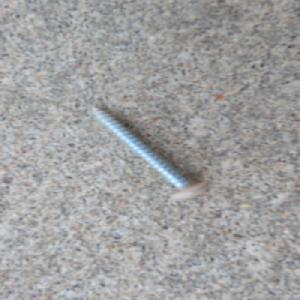Screw: (88, 103, 213, 202)
